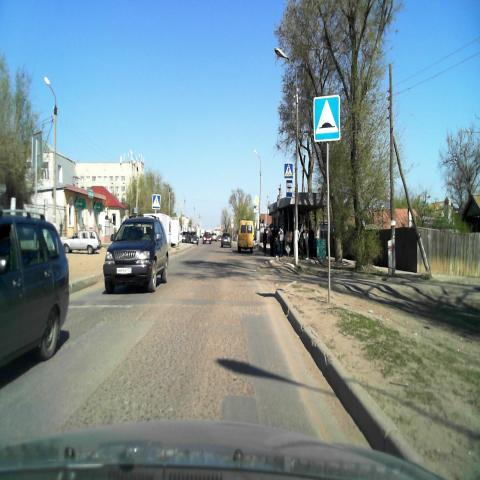5_20: (313, 95, 340, 142)
